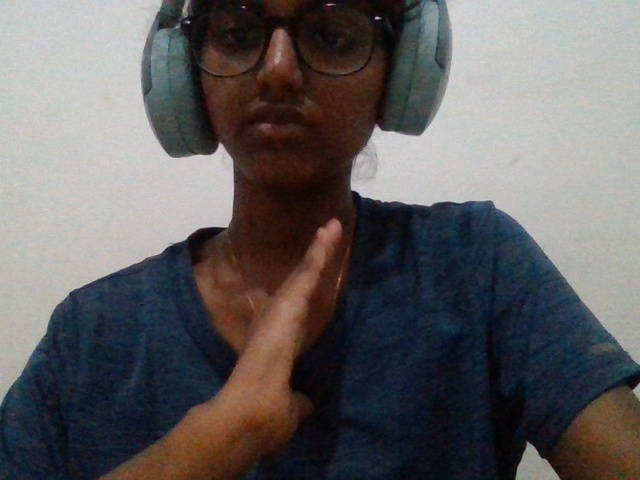Fine: (122, 163, 372, 466)
